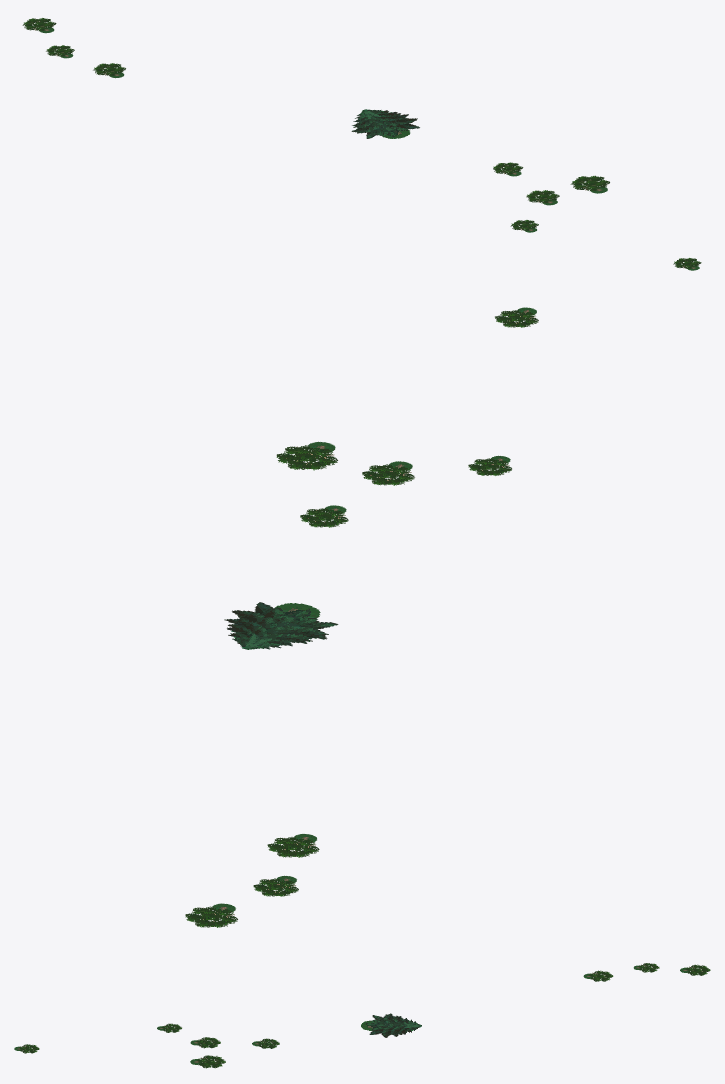
Rendered from glf_map_fc8__glf_tree_fc8.glb.
3 views of the same model, one above another, from view 1: azimuth 30°, elevation 25°; view 2: azimuth 150°, elevation 25°; view 3: azimuth 270°, elevation 25° (orthographic). The views are drawn at different scales.
Parts seen in each view (by area): view 1: polygon0, polygon1; view 2: polygon0, polygon1; view 3: polygon0, polygon1.
Boxes of the visible parts, x1,y1,x2,y2 form: polygon0: (22,18,701,270); polygon1: (351,109,419,138); polygon0: (185,307,538,927); polygon1: (224,602,338,649); polygon0: (14,963,710,1068); polygon1: (361,1013,421,1037).
Bounding box in the file's own units: 1630 × 83.8 × 4260.
Materials: 2 (2 with a texture image).
